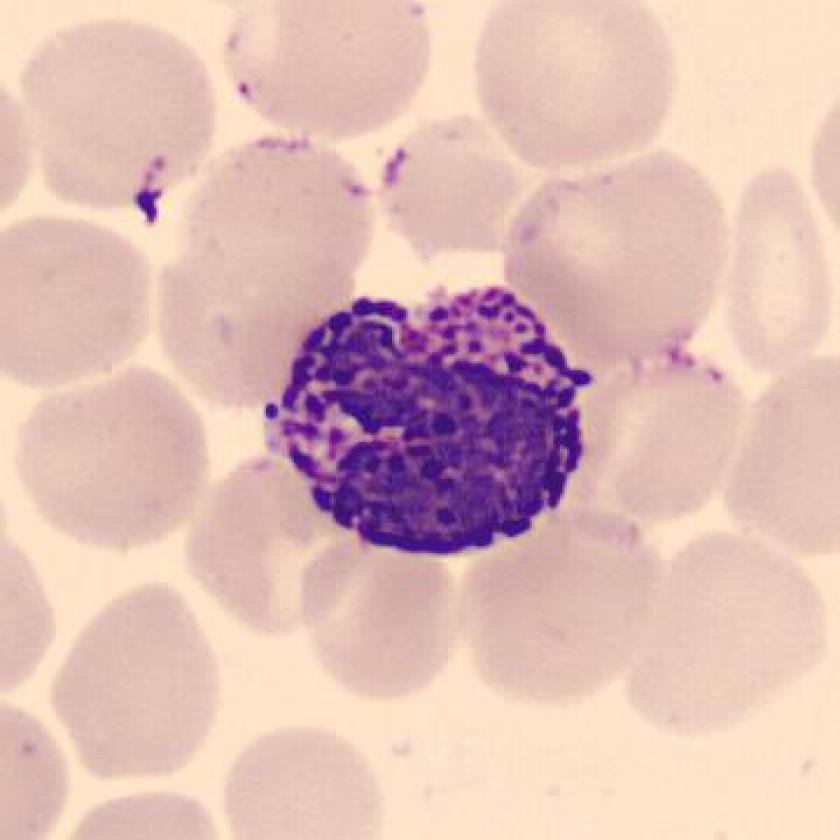basophil: (260, 270, 598, 578)
